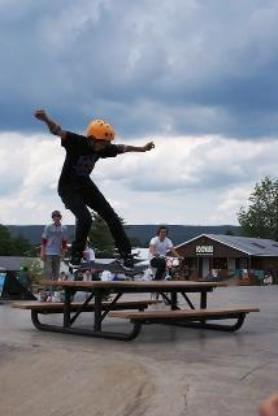person: (36, 104, 153, 272), (29, 206, 72, 303), (144, 220, 185, 294)
